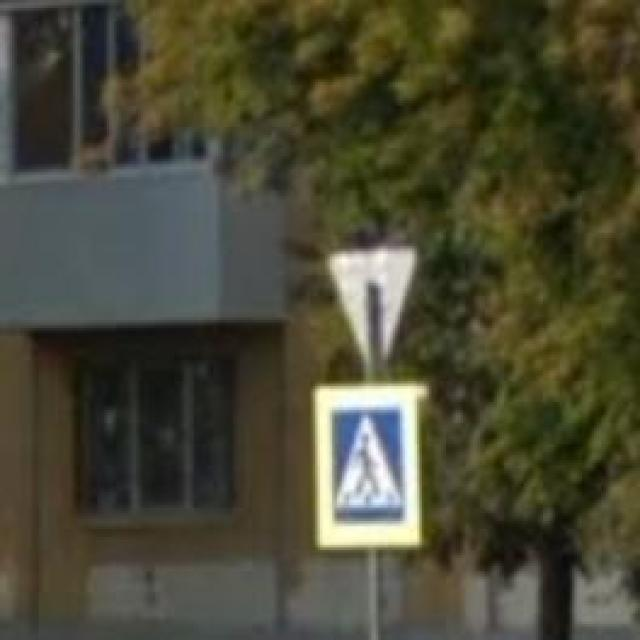Przejscie dla pieszych: (313, 384, 422, 550)
